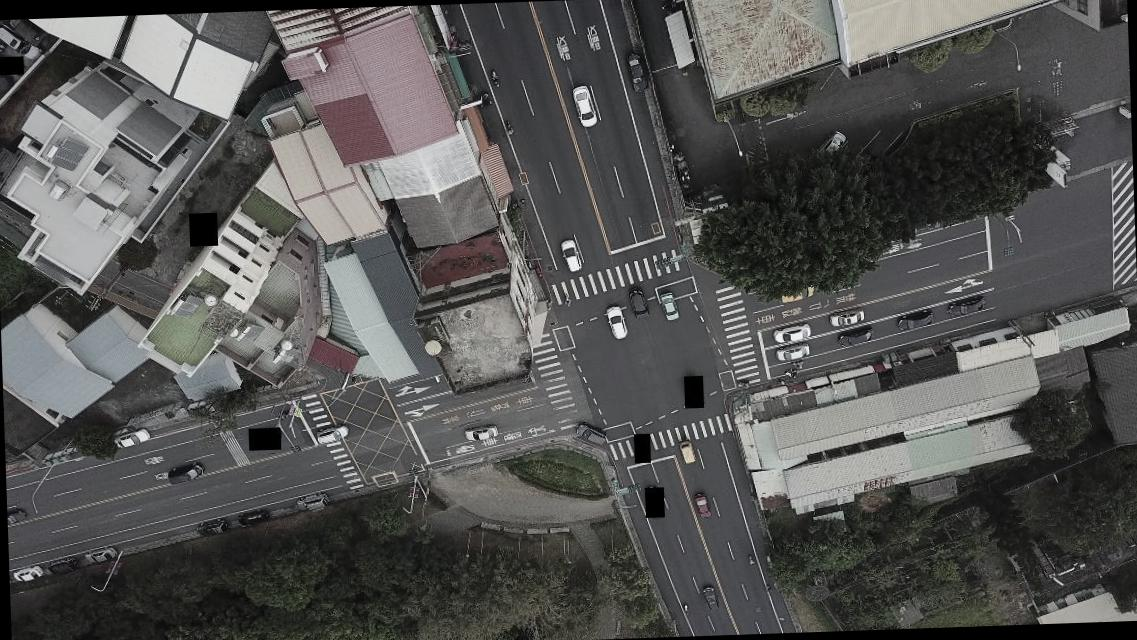vehicle: (0, 25, 43, 63), (570, 85, 597, 127), (894, 308, 936, 332), (945, 294, 986, 318), (602, 304, 628, 340), (625, 52, 647, 94), (166, 461, 204, 485), (816, 129, 846, 158), (772, 322, 811, 344), (558, 238, 582, 272), (626, 287, 649, 322), (232, 506, 268, 528), (777, 284, 816, 304), (574, 422, 606, 446), (112, 428, 150, 448), (828, 307, 864, 328), (314, 423, 350, 444), (836, 326, 873, 346), (774, 342, 810, 362), (193, 517, 226, 536), (658, 290, 678, 321), (296, 492, 327, 512), (84, 546, 118, 564), (462, 426, 498, 442), (47, 558, 76, 576), (11, 566, 42, 582), (702, 584, 720, 610), (694, 493, 711, 520), (679, 440, 696, 464), (7, 508, 29, 526)
